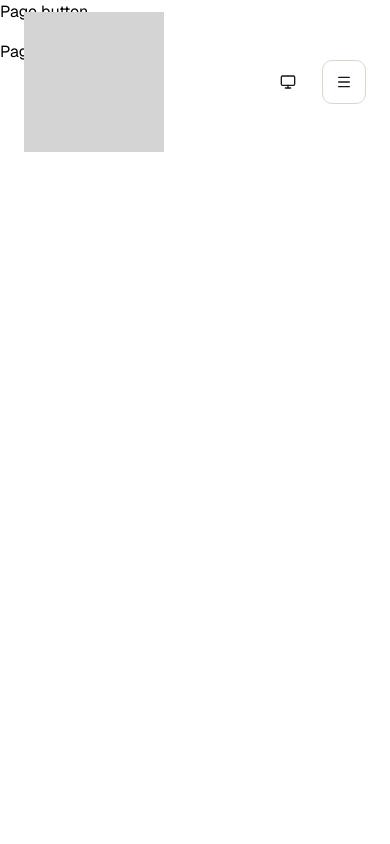
Test: site shell › closes the desktop menu when its own backdrop is clicked
The image size is (390, 844).
Click the button named "Open navigation menu" at x=344, y=82, box [322,60,366,104]
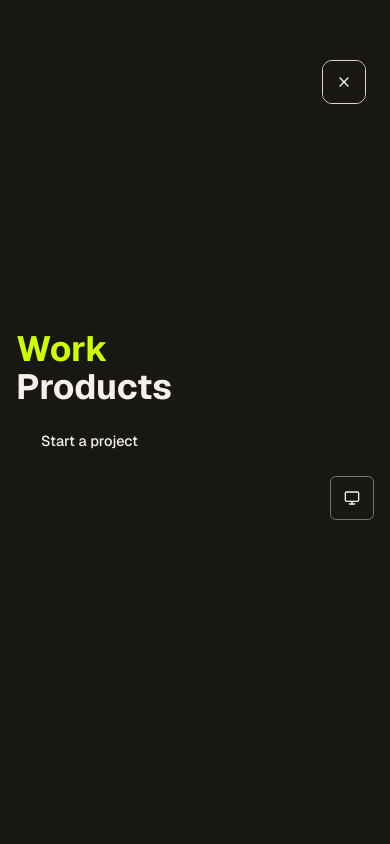
Expected: the button named "Close navigation menu" is shown, [322,60,366,104]
Expected: the element with class "brkta-site-header-menu" is shown
Click the element with class "brkta-site-header-menu" at x=195, y=422, box [0,0,389,843]
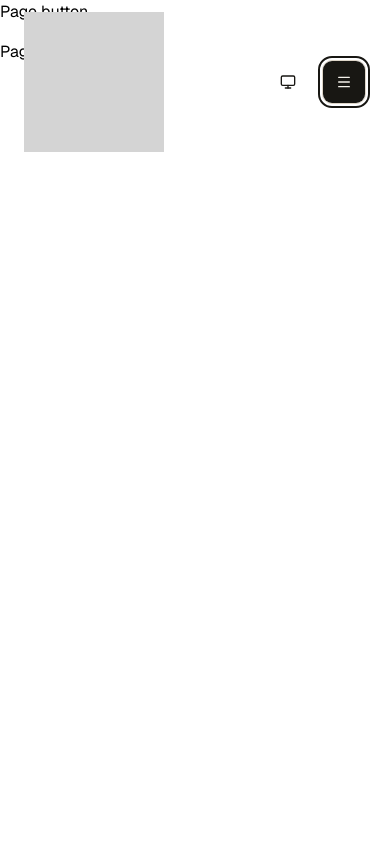
Expected: the button named "Open navigation menu" is shown, [322,60,366,104]
